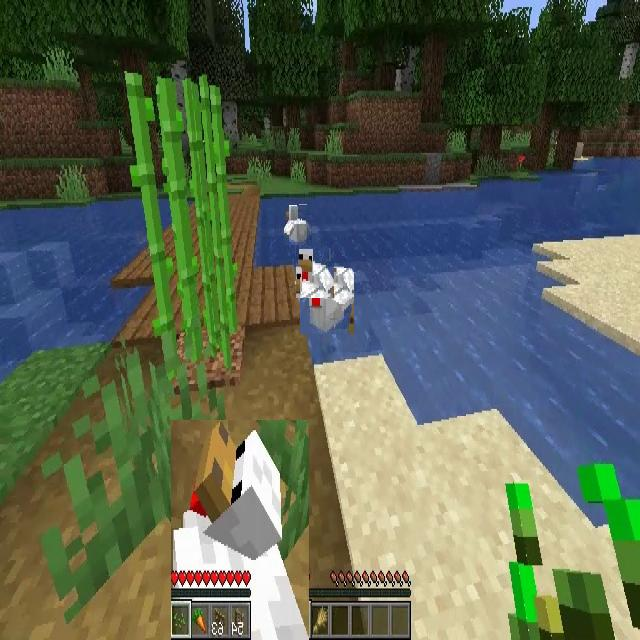duck: (171, 420, 309, 640), (300, 268, 354, 334), (296, 248, 334, 298), (284, 205, 312, 245)
